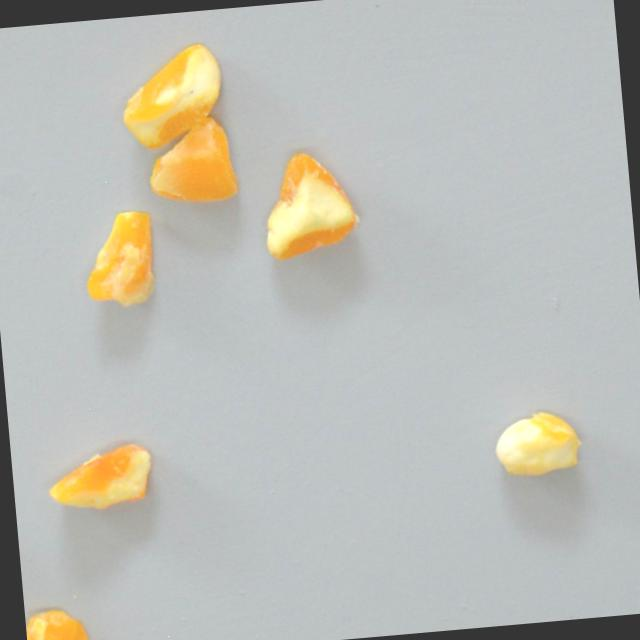pelicula: (115, 39, 229, 151), (255, 147, 360, 262), (142, 115, 238, 208), (44, 441, 157, 516), (79, 208, 158, 309), (24, 603, 91, 640)
